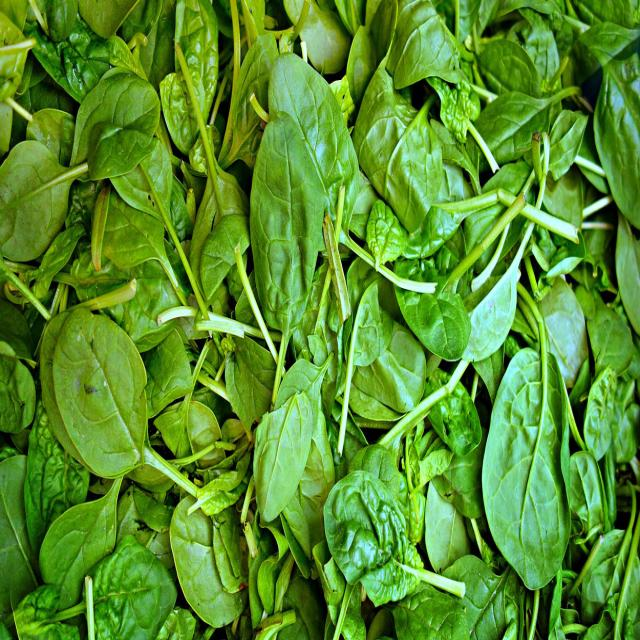spinach: (484, 353, 571, 587), (50, 308, 152, 481), (249, 112, 321, 334), (358, 79, 436, 217), (73, 66, 161, 183), (322, 476, 405, 600), (1, 139, 67, 265), (592, 58, 640, 226), (41, 498, 114, 598), (254, 396, 310, 519), (168, 499, 217, 624), (398, 292, 472, 362), (395, 0, 453, 86)
